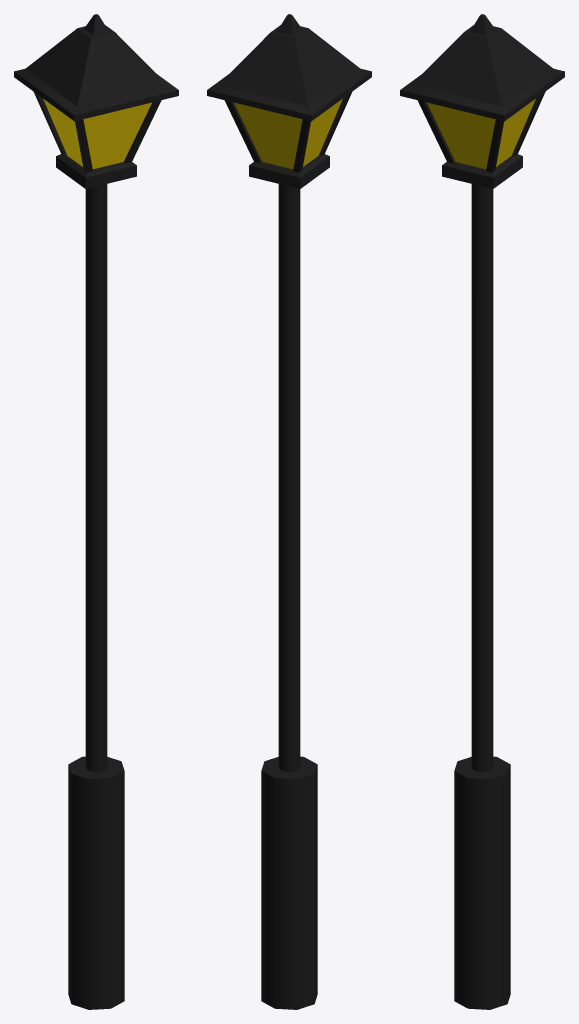
The model's file is vintage-street-light.glb.
3 views of the same model, side by side, from view 1: azimuth 30°, elevation 25°; view 2: azimuth 150°, elevation 25°; view 3: azimuth 330°, elevation 25° (orthographic).
Parts seen in each view (by area): view 1: Street_Light_Vintage; view 2: Street_Light_Vintage; view 3: Street_Light_Vintage.
Part boxes in pixels (x1,y1,x2,y2): Street_Light_Vintage: (14,14,178,1009); Street_Light_Vintage: (207,14,371,1009); Street_Light_Vintage: (400,14,564,1009).
Bounding box in the file's own units: 0.4337 × 3.9 × 0.4337.
Materials: 1 (1 with a texture image).
